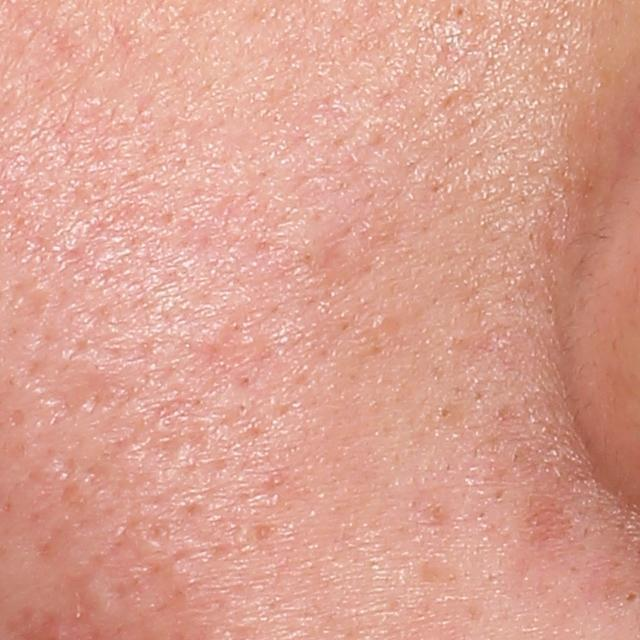atrophic_scar: (15, 344, 148, 427)
comedo: (433, 405, 458, 423)
